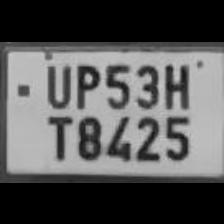2: (130, 110, 160, 162)
3: (130, 60, 160, 106)
4: (104, 109, 132, 161)
5: (160, 110, 192, 162), (99, 57, 131, 106)
8: (72, 108, 102, 160)
H: (159, 58, 191, 110)
P: (69, 58, 100, 108)
T: (40, 110, 72, 162)
U: (40, 60, 72, 106)
